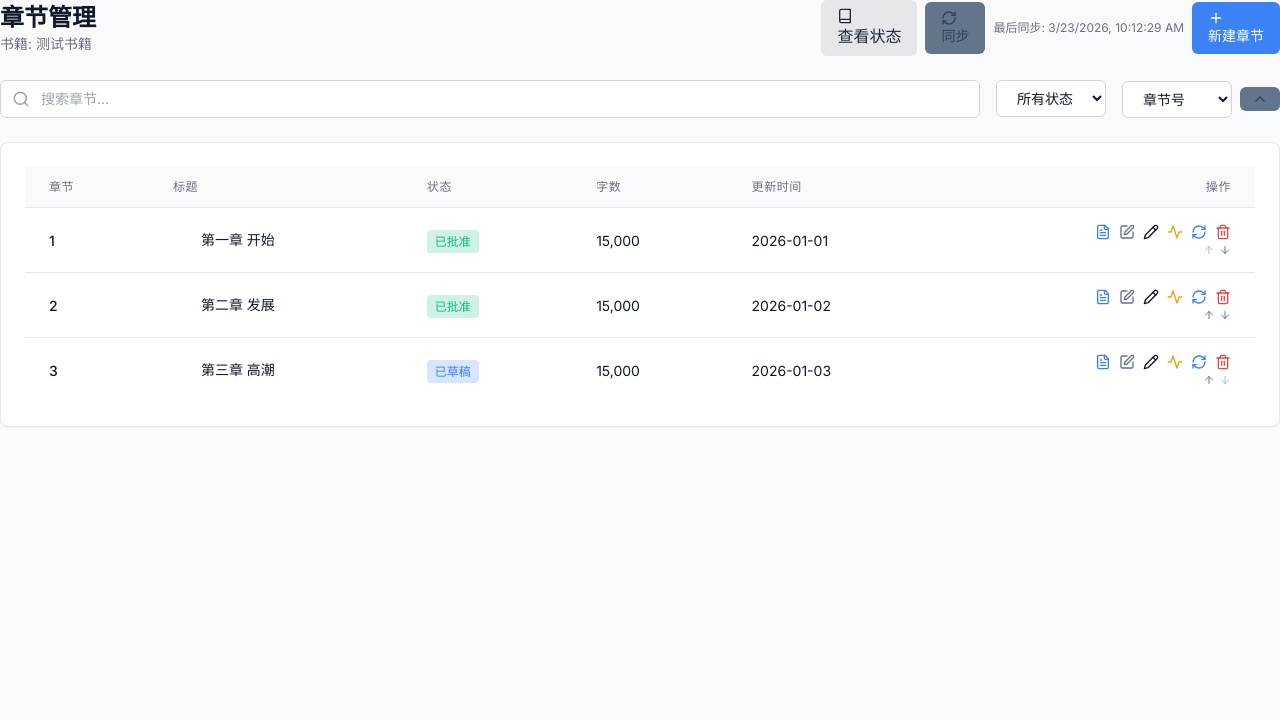
it: Chapters Component › opens rename chapter modal when clicking rename button
Click the button titled "重命名" in the row of "第一章 开始".
click(1151, 232)  # box [1143,224,1159,240]
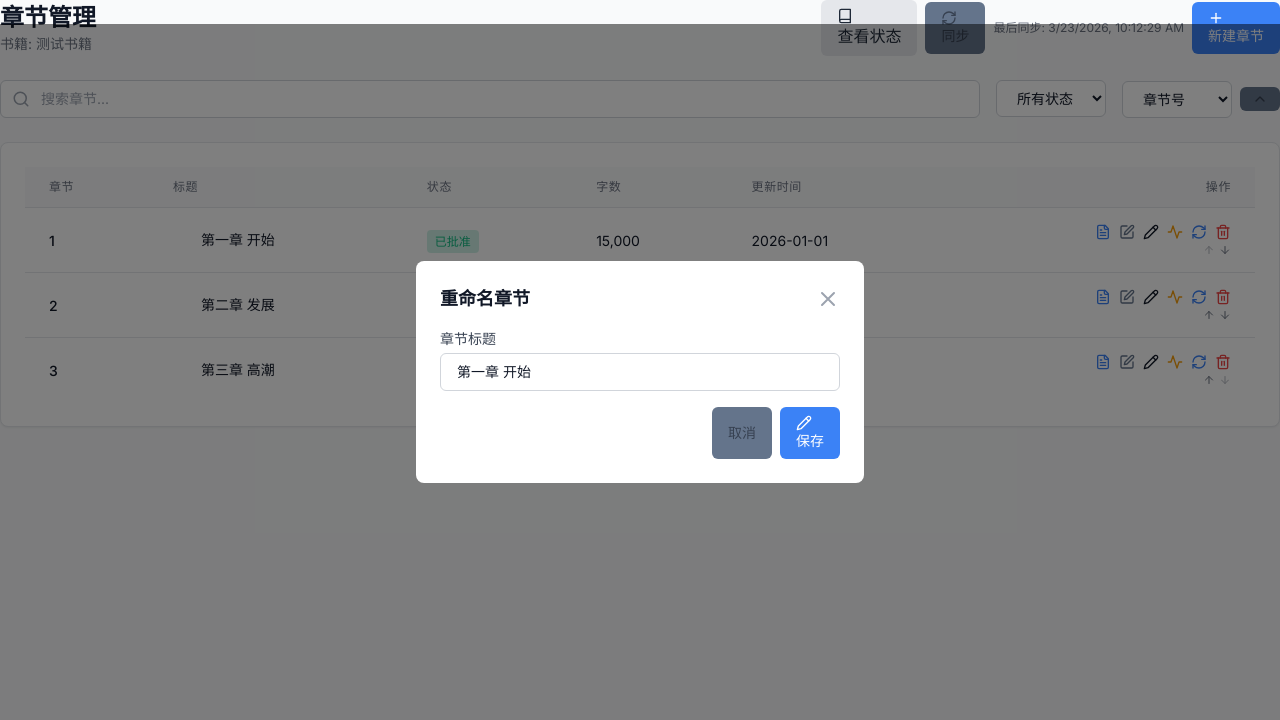
Expected: the heading "重命名章节" is shown, [440,285,530,313]
